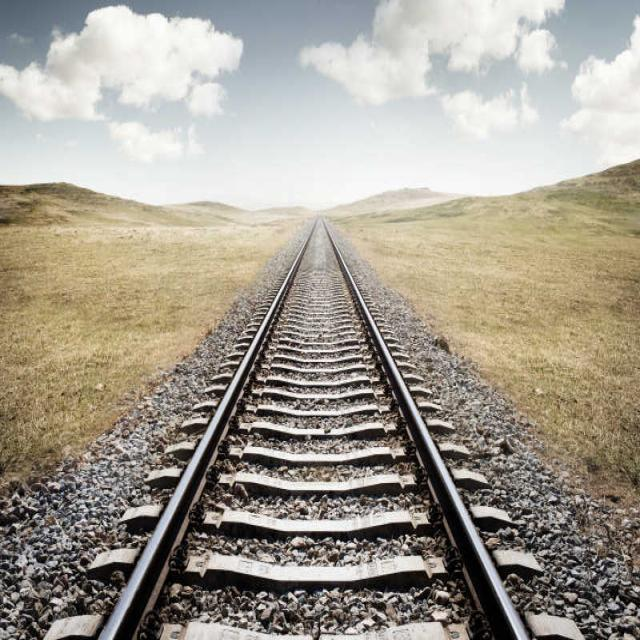rail: (42, 214, 640, 640)
